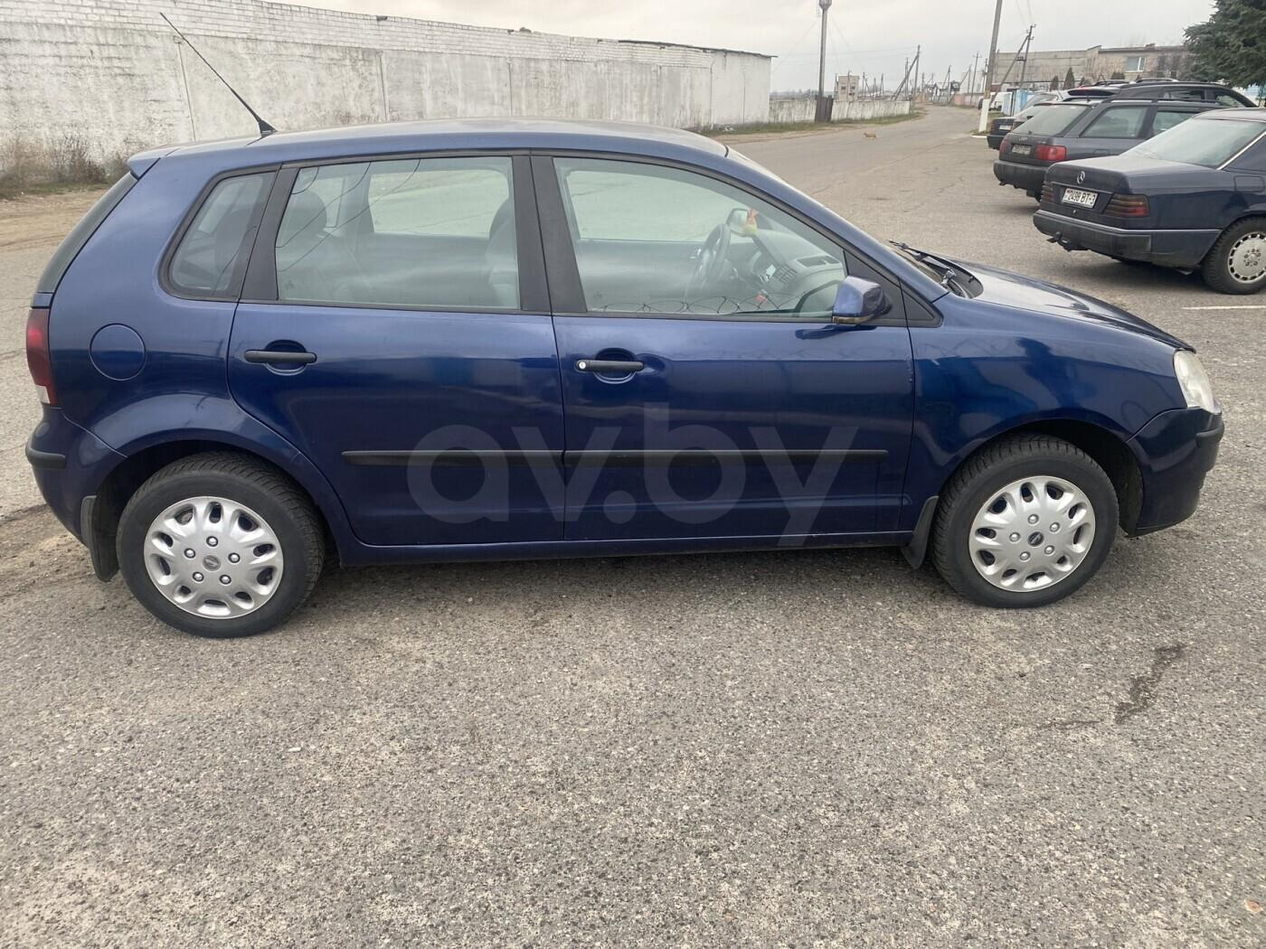Polo_2005-2009: (24, 125, 1242, 666)
